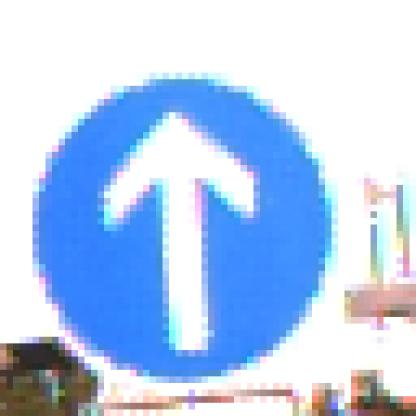AheadOnly: (34, 41, 378, 378)
